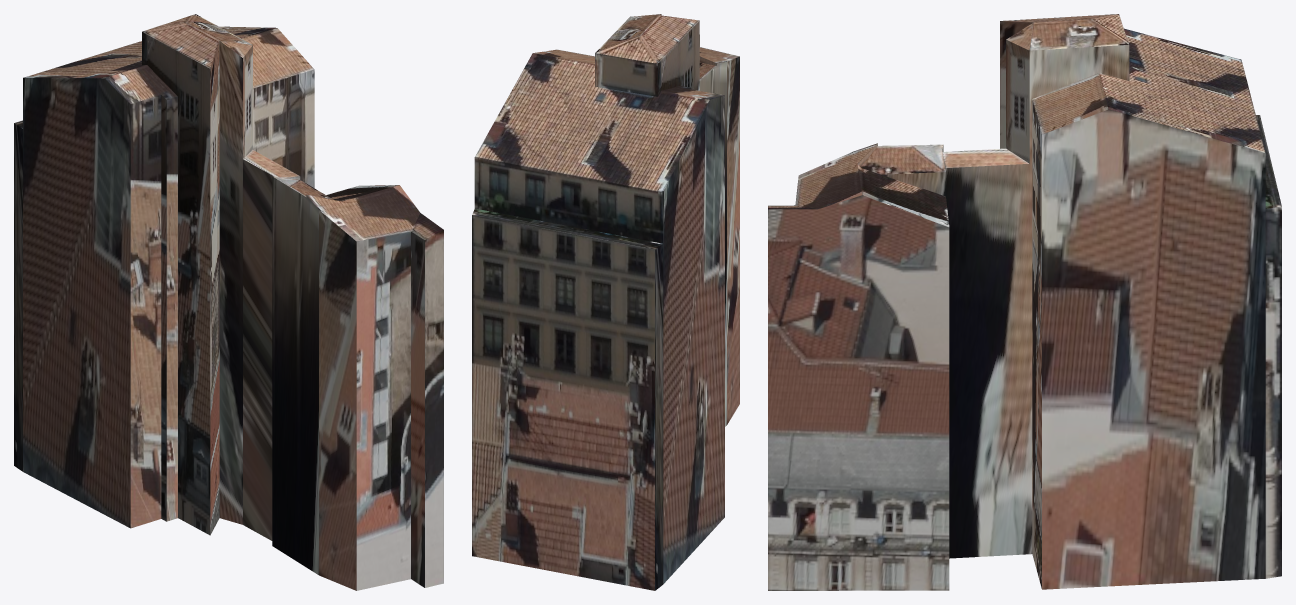
3 renders of one model, left to right at view 1: azimuth 30°, elevation 25°; view 2: azimuth 150°, elevation 25°; view 3: azimuth 270°, elevation 25°, orthographic. The views are drawn at different scales.
Visible parts, largest first — view 1: Z_UP; view 2: Z_UP; view 3: Z_UP.
Part boxes in pixels (x1,y1,x2,y2): Z_UP: [14, 14, 443, 590]; Z_UP: [472, 14, 739, 590]; Z_UP: [768, 14, 1281, 590].
Bounding box in the file's own units: 14.01 × 31.67 × 28.64.
Materials: 2 (1 with a texture image).
